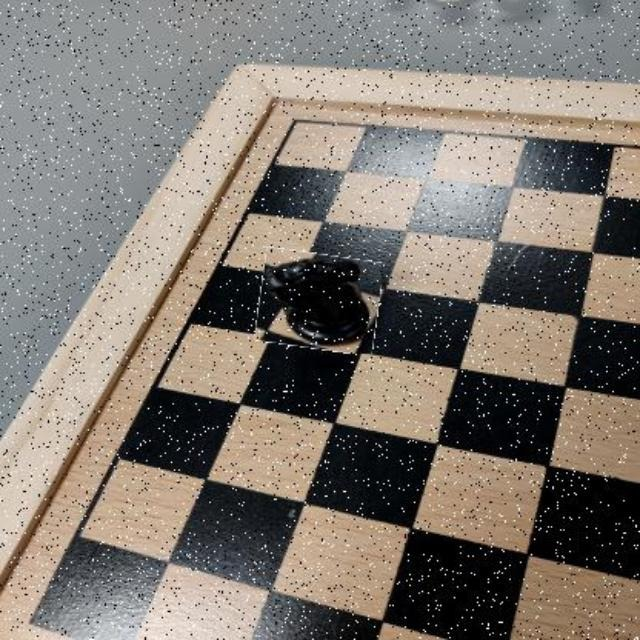black-knight: (257, 250, 381, 351)
